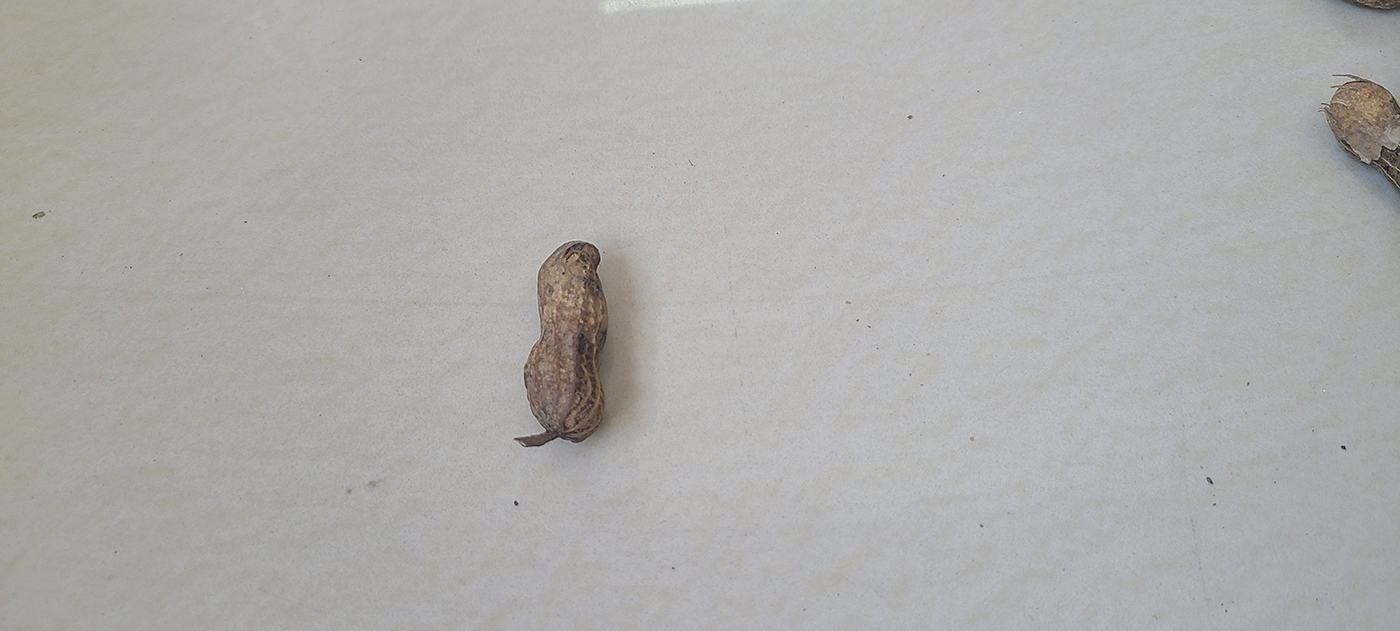l: (521, 242, 608, 441)
